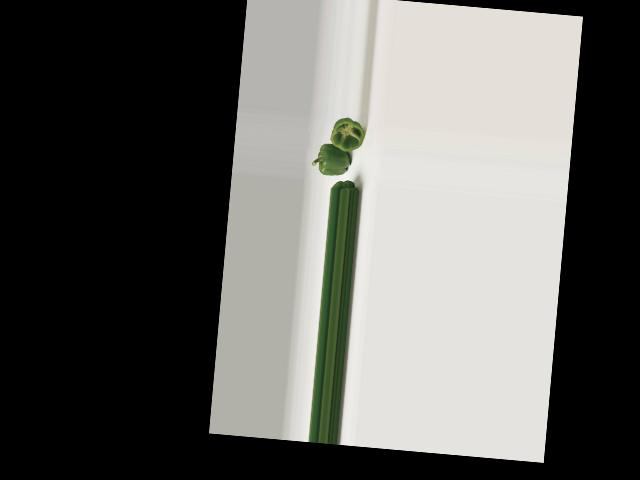bell_pepper: (325, 114, 368, 154)
